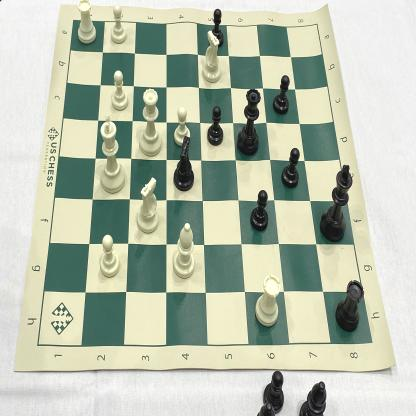black-king: (317, 161, 353, 244)
black-knight: (172, 136, 198, 193)
black-pawn: (206, 6, 226, 50), (205, 106, 225, 148), (272, 74, 291, 118)
black-queen: (236, 84, 263, 159)
black-rook: (332, 276, 367, 336)
white-bishop: (171, 220, 196, 280), (249, 188, 270, 233)
white-king: (98, 114, 127, 196)
white-knight: (136, 177, 162, 236), (200, 29, 223, 84), (280, 147, 300, 191)
white-pawn: (97, 231, 121, 279), (171, 103, 192, 147), (110, 67, 130, 113), (108, 3, 128, 46)
white-queen: (139, 86, 163, 159)
white-rook: (251, 269, 282, 328), (75, 0, 100, 49)
